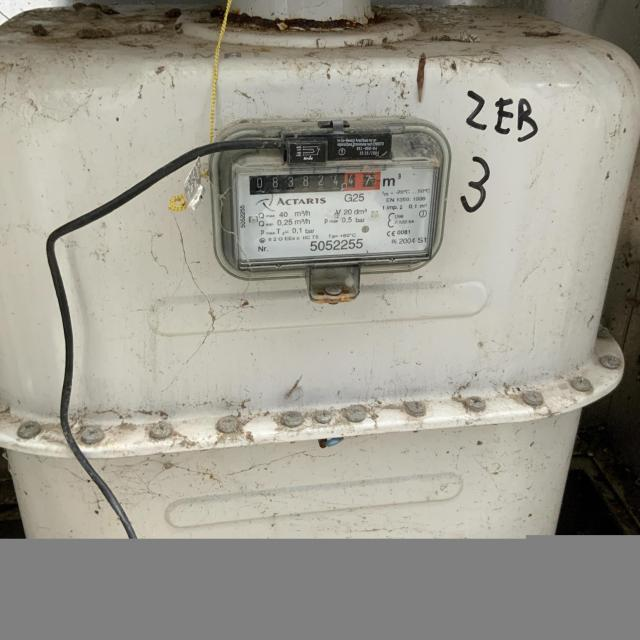gaz_meter: (232, 167, 436, 263)
indication: (248, 170, 384, 196)
